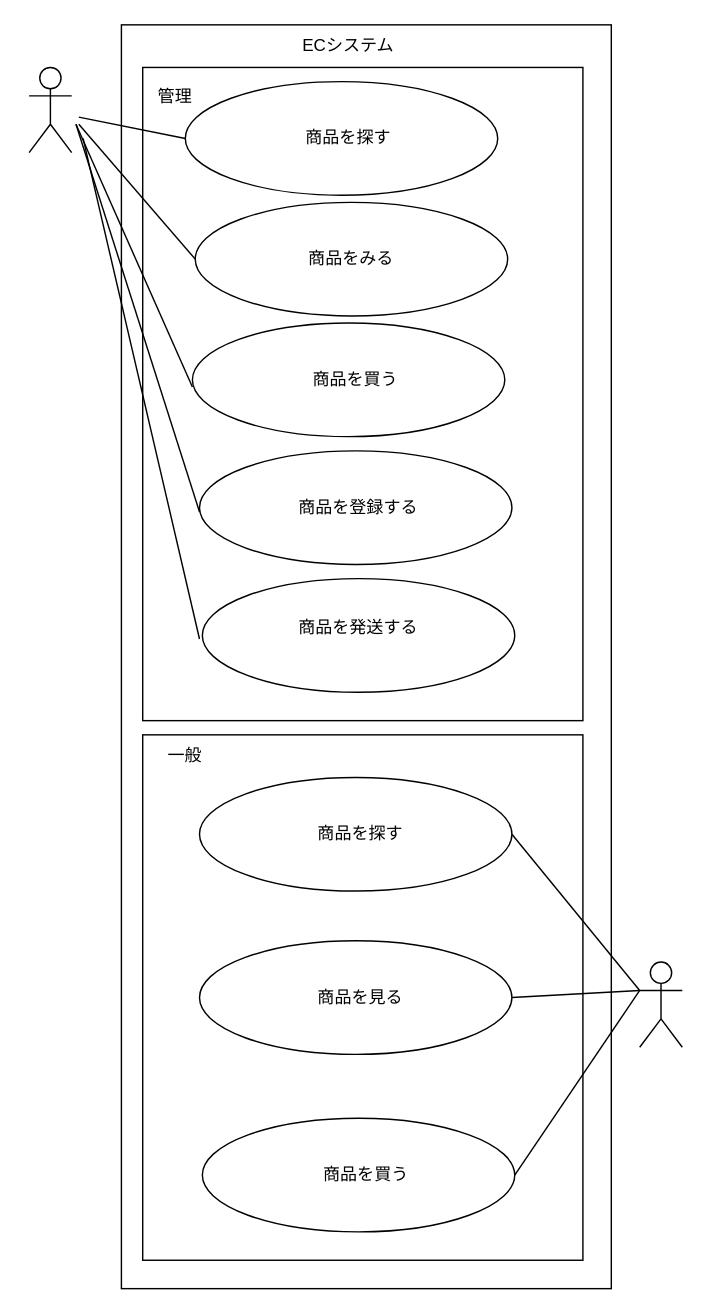
Image size: 710x1314. Some labels were removed from this diagram. Here are the shapes that lost their labels. From the top down, the centre of each, then its label:
the point at 50,109: 管理者
the point at 660,1004: 購入者
